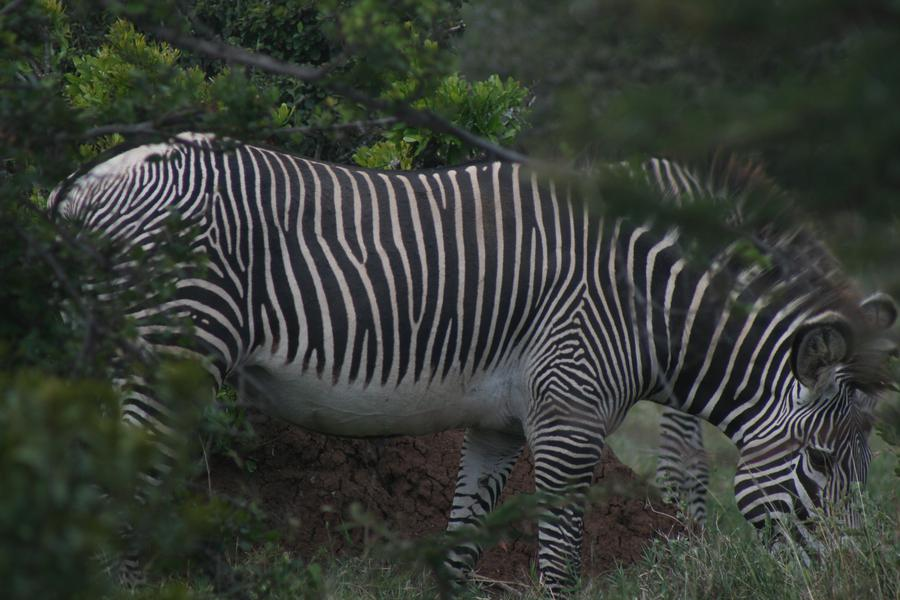zebra_grevys: (78, 99, 618, 438)
